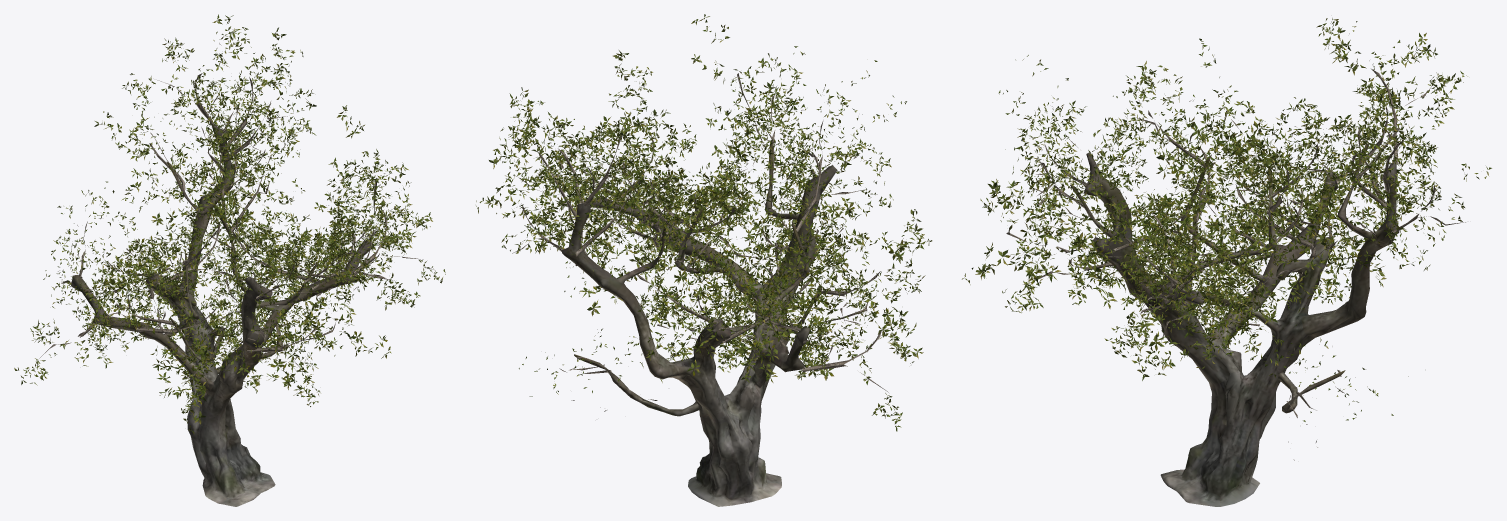
File: isle-tree-1.glb
The picture shows the model from 3 angles, left to right: view 1: azimuth 30°, elevation 25°; view 2: azimuth 150°, elevation 25°; view 3: azimuth 270°, elevation 25°; orthographic projection. The views are drawn at different scales.
Visible parts, largest first — view 1: island_tree_01_LOD0; view 2: island_tree_01_LOD0; view 3: island_tree_01_LOD0.
Boxes of the visible parts, <box> form: island_tree_01_LOD0: <box>14,14,445,506</box>; island_tree_01_LOD0: <box>476,14,932,506</box>; island_tree_01_LOD0: <box>962,18,1491,506</box>.
Size of the model in its own units: 4.73 by 4.99 by 4.81.
Materials: 3 (3 with a texture image).
